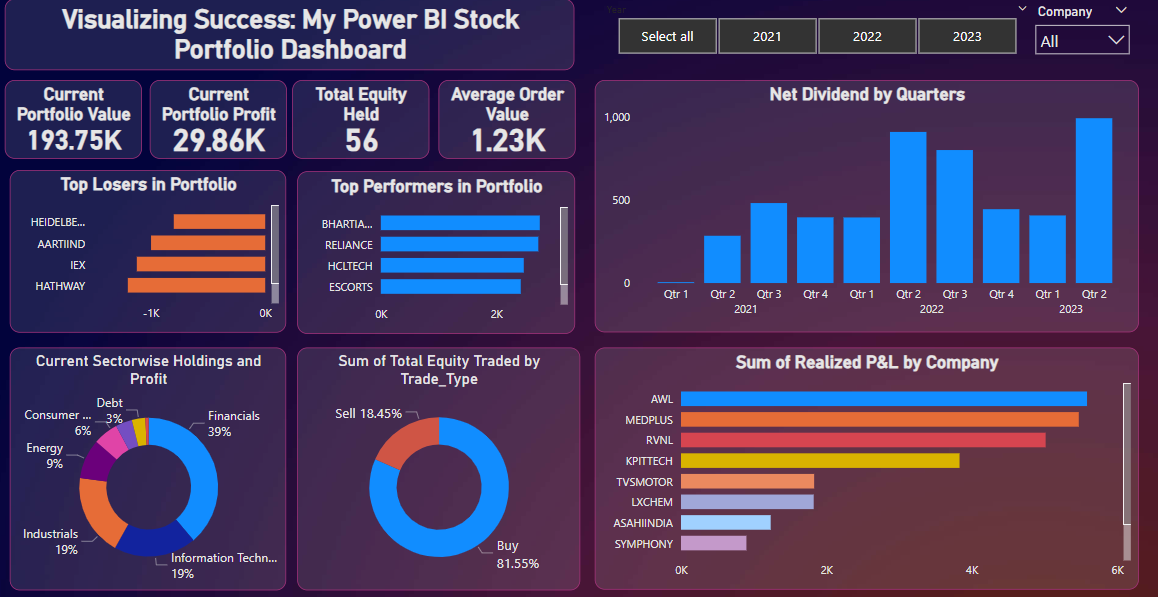

What the dashboard file says about the page in this screenshot:
{"tool":"powerbi","page":{"name":"Page 1","canvas":[1280,720],"ordinal":0},"visuals":[{"type":"textbox","title":"Visualizing Success: My Power BI Stock Portfolio Dashboard","box":[9.6,26,625.2,78.1],"z":0},{"type":"columnChart","title":"Net Dividend by Quarters","fields":{"Category":["Equity Dividends.Date.Variation.Date Hierarchy.Year","Equity Dividends.Date.Variation.Date Hierarchy.Quarter"],"Y":["Sum(Equity Dividends.Net Dividend Amount)"]},"box":[656.7,115,596.7,276.7],"z":1000},{"type":"barChart","title":"Sum of Realized P&L by Company","fields":{"Y":["Sum(Equity.Realized P&L)"],"Category":["Equity.Symbol"]},"box":[656.7,408.6,596.4,266],"z":2000},{"type":"donutChart","title":"Sum of Total Equity Traded by Trade_Type","fields":{"Category":["tradebook-QD2012-EQ (2) 20-23.trade_type"],"Y":["Sum(tradebook-QD2012-EQ (2) 20-23.quantity)"]},"box":[330,408.3,310,266.7],"z":3000},{"type":"donutChart","title":"Current Sectorwise Holdings and Profit","fields":{"Category":["Holdings.Sector"],"Y":["Sum(Holdings.Unrealized P&L)"]},"box":[15,408.3,303.3,266.7],"z":4000},{"type":"card","title":"Current Portfolio Value","fields":{"Values":["Sum(Holdings.Total Holding per Equity)"]},"box":[10,115,150,86.7],"z":5000},{"type":"card","title":"Current Portfolio Profit","fields":{"Values":["Sum(Holdings.Unrealized P&L)"]},"box":[168.3,115,150,86.7],"z":6000},{"type":"card","title":"Total Equity Held","fields":{"Values":["Count(Holdings.Symbol)"]},"box":[325,115,150,86.7],"z":7000},{"type":"card","title":"Average Order Value","fields":{"Values":["Avg(tradebook-QD2012 2020-2023.Average Order Value)"]},"box":[485,115,150,86.7],"z":8000},{"type":"barChart","title":"Top Losers in Portfolio","fields":{"Y":["Sum(Equity.Unrealized P&L)"],"Category":["Equity.Symbol"]},"box":[15,213.3,303.3,178.3],"z":9000},{"type":"barChart","title":"Top Performers in Portfolio","fields":{"Y":["Sum(Equity.Unrealized P&L)"],"Category":["Equity.Symbol"]},"box":[330,215,305,178.3],"z":10000},{"type":"slicer","fields":{"Values":["Equity Dividends.Date.Variation.Date Hierarchy.Year"]},"box":[656.7,26.7,486.7,66.7],"z":11000},{"type":"slicer","fields":{"Values":["Equity Dividends.Symbol"]},"box":[1130,26.7,123.3,66.7],"z":12000}]}

Visuals, with their boxes on the page's 1280x720 design canvas (x1, y1, x2, y2). These are canvas units, not pixel positions in the 1158x597 screenshot, which may show the page scaled, cropped or inside an application window:
"Visualizing Success: My Power BI Stock Portfolio Dashboard" textbox: bbox=[10, 26, 635, 104]
"Net Dividend by Quarters" columnChart: bbox=[657, 115, 1253, 392]
"Sum of Realized P&L by Company" barChart: bbox=[657, 409, 1253, 675]
"Sum of Total Equity Traded by Trade_Type" donutChart: bbox=[330, 408, 640, 675]
"Current Sectorwise Holdings and Profit" donutChart: bbox=[15, 408, 318, 675]
"Current Portfolio Value" card: bbox=[10, 115, 160, 202]
"Current Portfolio Profit" card: bbox=[168, 115, 318, 202]
"Total Equity Held" card: bbox=[325, 115, 475, 202]
"Average Order Value" card: bbox=[485, 115, 635, 202]
"Top Losers in Portfolio" barChart: bbox=[15, 213, 318, 392]
"Top Performers in Portfolio" barChart: bbox=[330, 215, 635, 393]
slicer - Equity Dividends.Date.Variation.Date Hierarchy.Year: bbox=[657, 27, 1143, 93]
slicer - Equity Dividends.Symbol: bbox=[1130, 27, 1253, 93]
